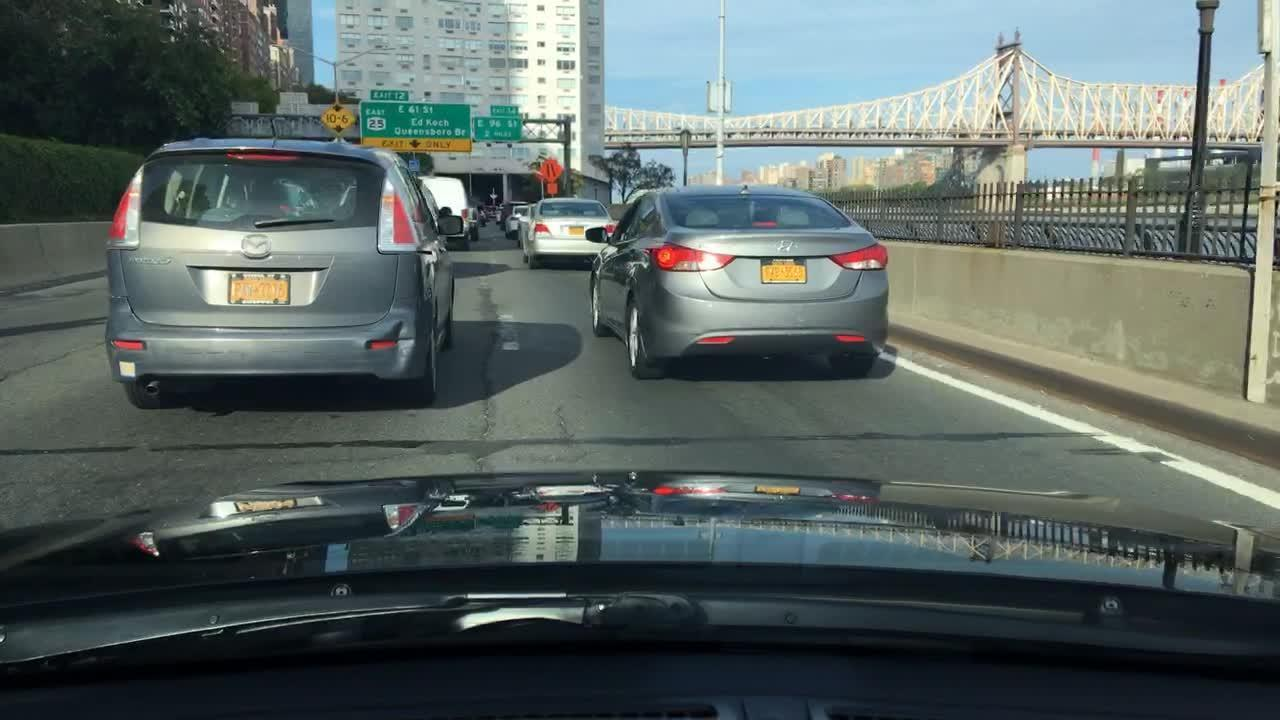Hyundai: (771, 235, 802, 256)
Mazda: (240, 232, 276, 262)
